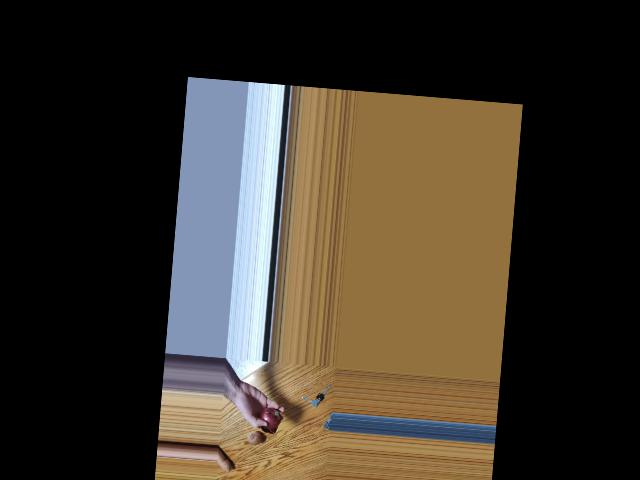onion: (260, 408, 281, 429)
